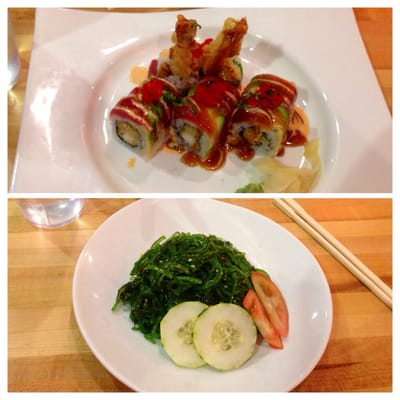curry: (113, 232, 253, 341)
salad: (273, 199, 392, 311)
sandwich: (273, 199, 392, 311)
sushi: (38, 199, 333, 390)
